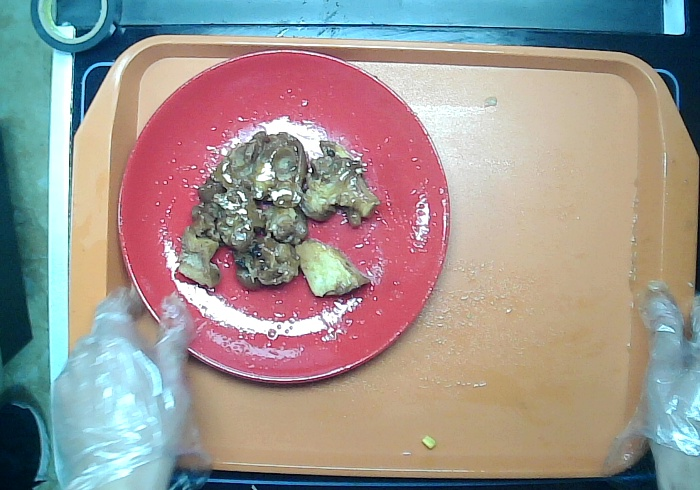HZYJPL-Hong_Se_Yuan_Pan: (107, 38, 464, 398)
